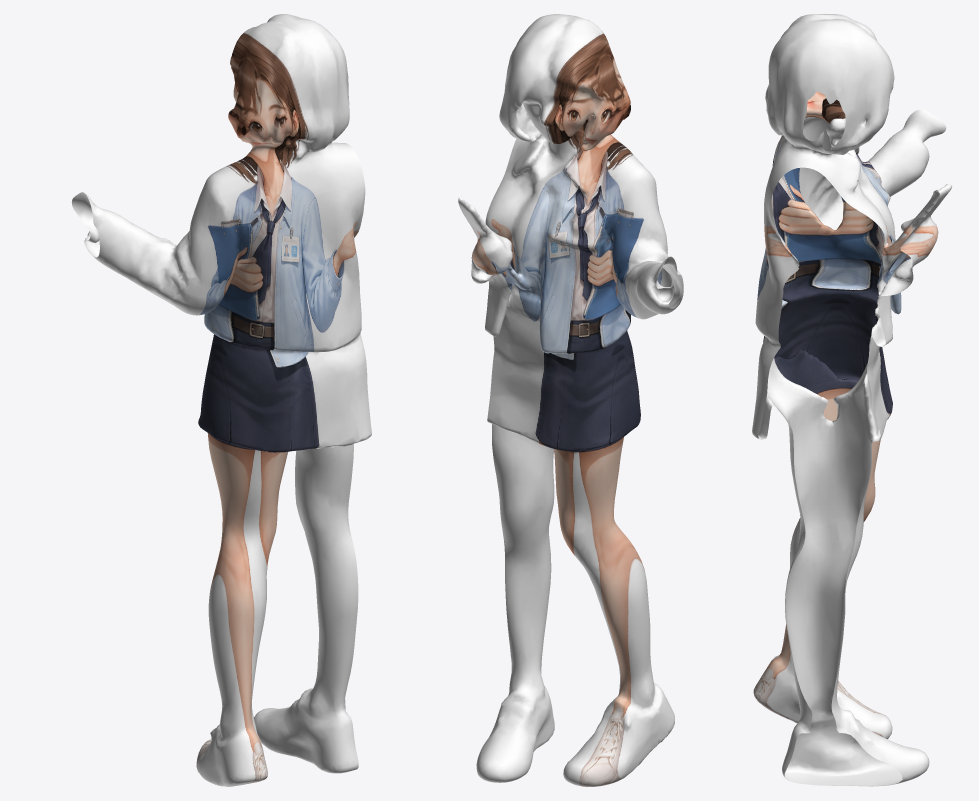
File: TownAdmin_TexturedProjection.obj
The picture shows the model from 3 angles, left to right: view 1: azimuth 30°, elevation 25°; view 2: azimuth 150°, elevation 25°; view 3: azimuth 270°, elevation 25°; orthographic projection. The views are drawn at different scales.
Parts seen in each view (by area): view 1: TownAdmin_Modly_FirstPass; view 2: TownAdmin_Modly_FirstPass; view 3: TownAdmin_Modly_FirstPass.
Boxes of the visible parts, left/top/right/bottom form: TownAdmin_Modly_FirstPass: left=71, top=14, right=371, bottom=786; TownAdmin_Modly_FirstPass: left=458, top=14, right=683, bottom=786; TownAdmin_Modly_FirstPass: left=752, top=14, right=952, bottom=786.
Size of the model in its own units: 0.8108 by 1.82 by 0.4711.
Materials: 1 (1 with a texture image).
